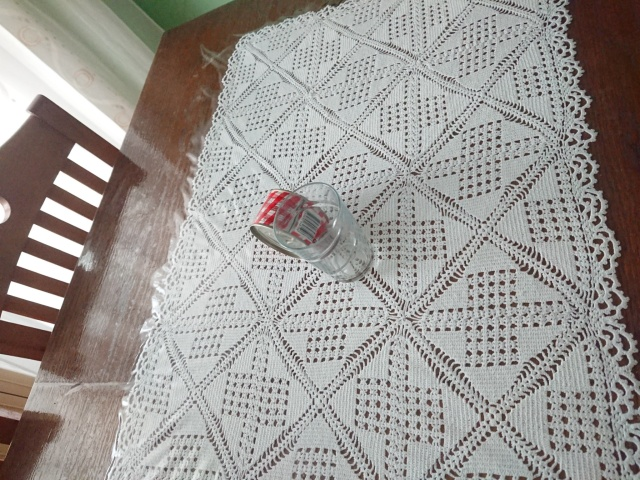Podravka Luncheon Meat 150g: (247, 187, 332, 261)
